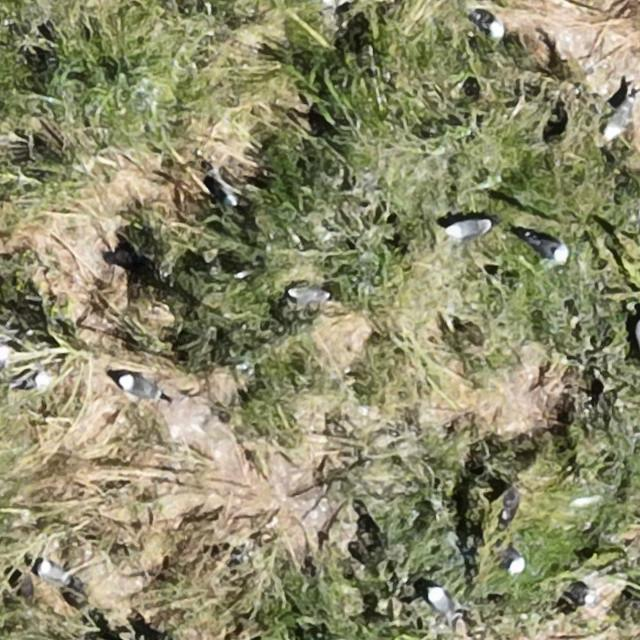umineko: (606, 100, 633, 137), (529, 236, 569, 260), (120, 376, 158, 397), (449, 220, 490, 239), (428, 586, 452, 614), (288, 288, 326, 305), (478, 15, 504, 39), (39, 564, 68, 584), (506, 554, 525, 574), (0, 343, 7, 368)
